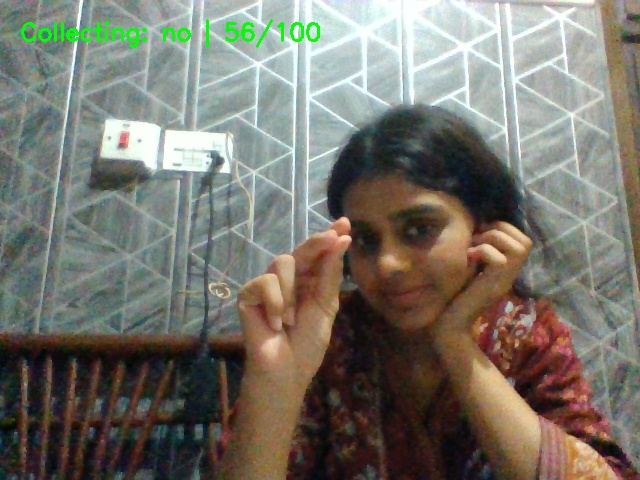no: (216, 211, 384, 423)
